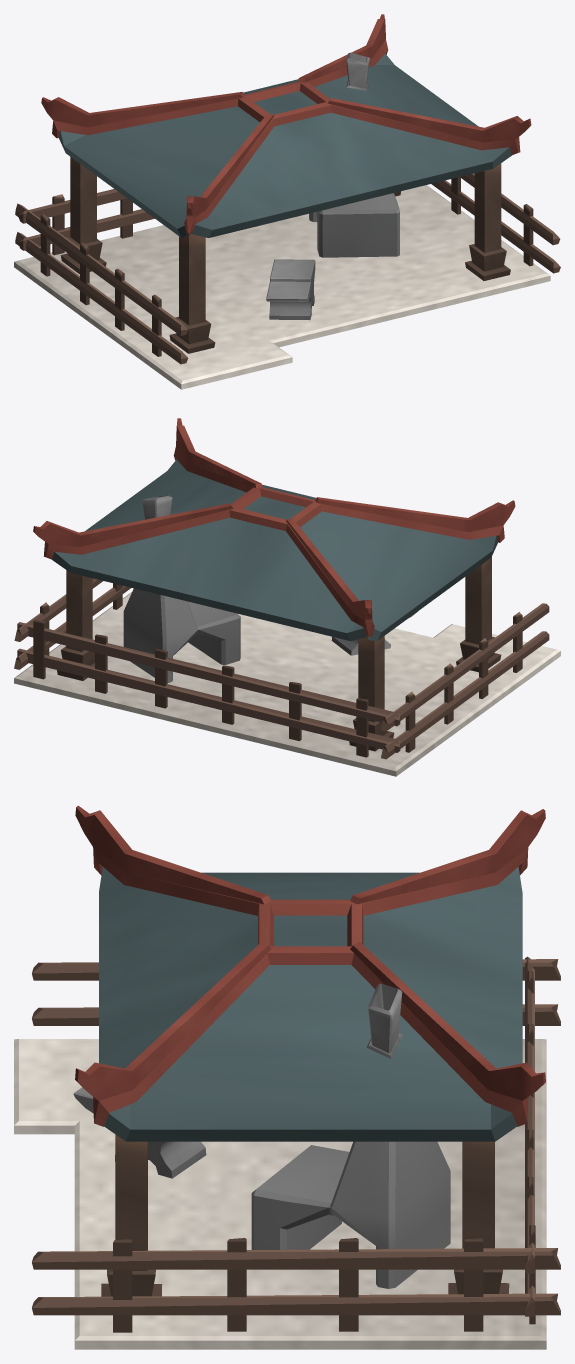
Rendered from Blacksmith_1lvl.fbx.
3 views of the same model, one above another, from view 1: azimuth 30°, elevation 25°; view 2: azimuth 150°, elevation 25°; view 3: azimuth 270°, elevation 25° (orthographic). The views are drawn at different scales.
Visible parts, largest first — view 1: blacksmith_1lvl_color; view 2: blacksmith_1lvl_color; view 3: blacksmith_1lvl_color.
Boxes of the visible parts, x1=… form: blacksmith_1lvl_color: x1=14, y1=14, x2=560, y2=389; blacksmith_1lvl_color: x1=14, y1=418, x2=560, y2=776; blacksmith_1lvl_color: x1=14, y1=805, x2=560, y2=1349.
Size of the model in its own units: 6.01 by 2.64 by 4.6.
